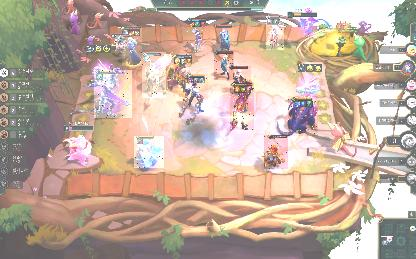1_leona: (214, 24, 234, 52)
1_nunu: (134, 136, 164, 168)
2_ezreal: (214, 52, 234, 80)
2_pantheon: (142, 52, 166, 98)
2_rakan: (229, 66, 251, 82)
2_syfen: (94, 70, 132, 118)
2_sylas: (182, 74, 208, 122)
2_twitch: (112, 33, 126, 53)
2_varus: (187, 18, 207, 54)
2_xayah: (266, 16, 284, 50)
3_braum: (169, 54, 191, 90)
3_heimerdinger: (264, 135, 288, 169)
3_nomsy: (288, 96, 318, 136)
3_yone: (122, 26, 142, 66)
3_zippy: (230, 82, 254, 130)
